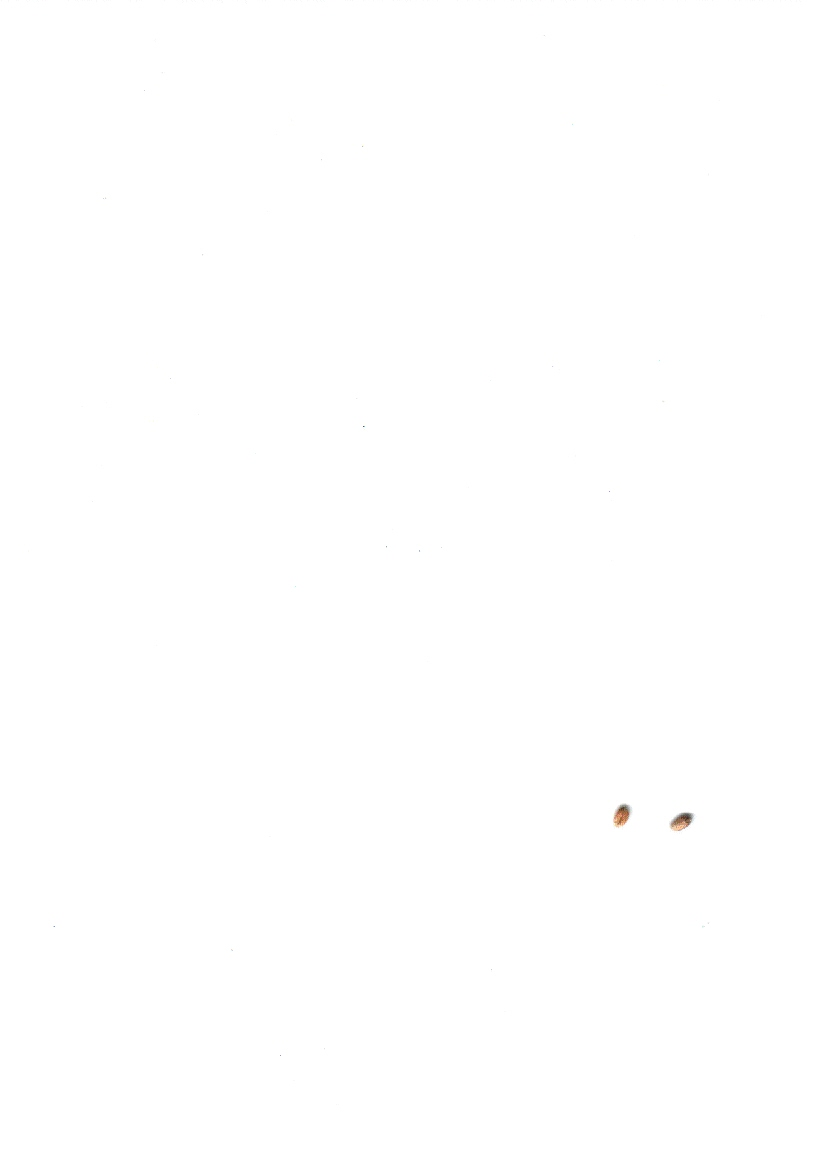grains: (601, 793, 644, 841), (663, 802, 699, 842)
